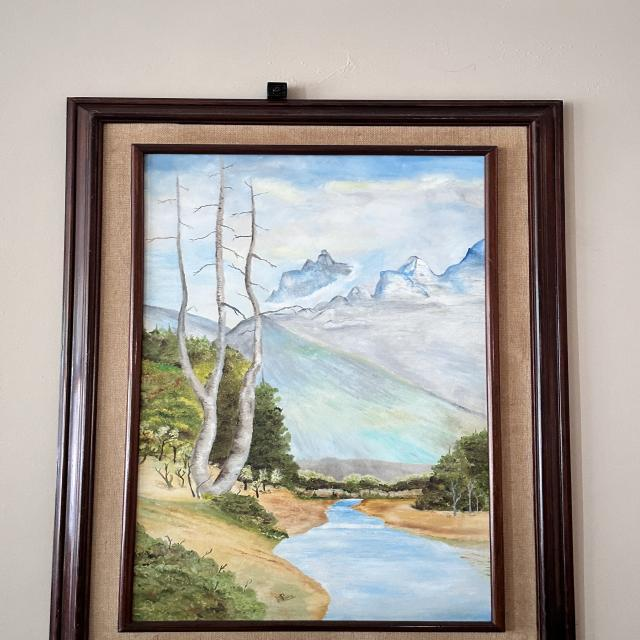hidden camera: (273, 86, 282, 93)
